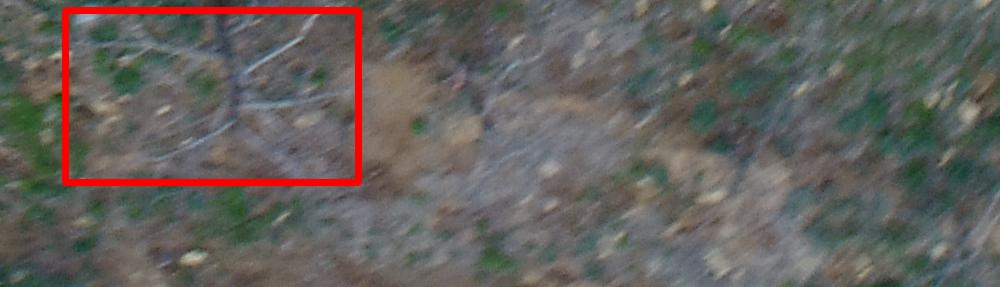apple: (65, 10, 358, 182)
